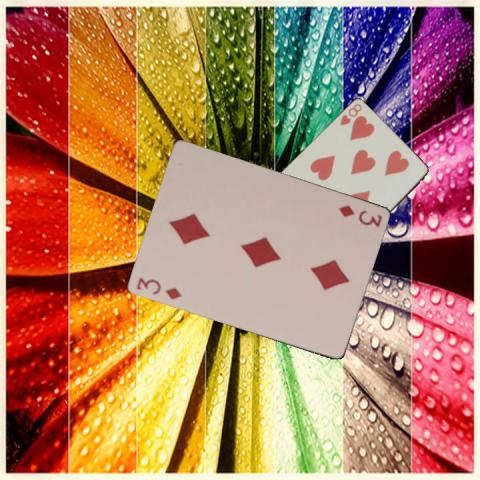3d: (133, 274, 183, 301), (335, 202, 384, 229)
8h: (337, 101, 363, 127)
